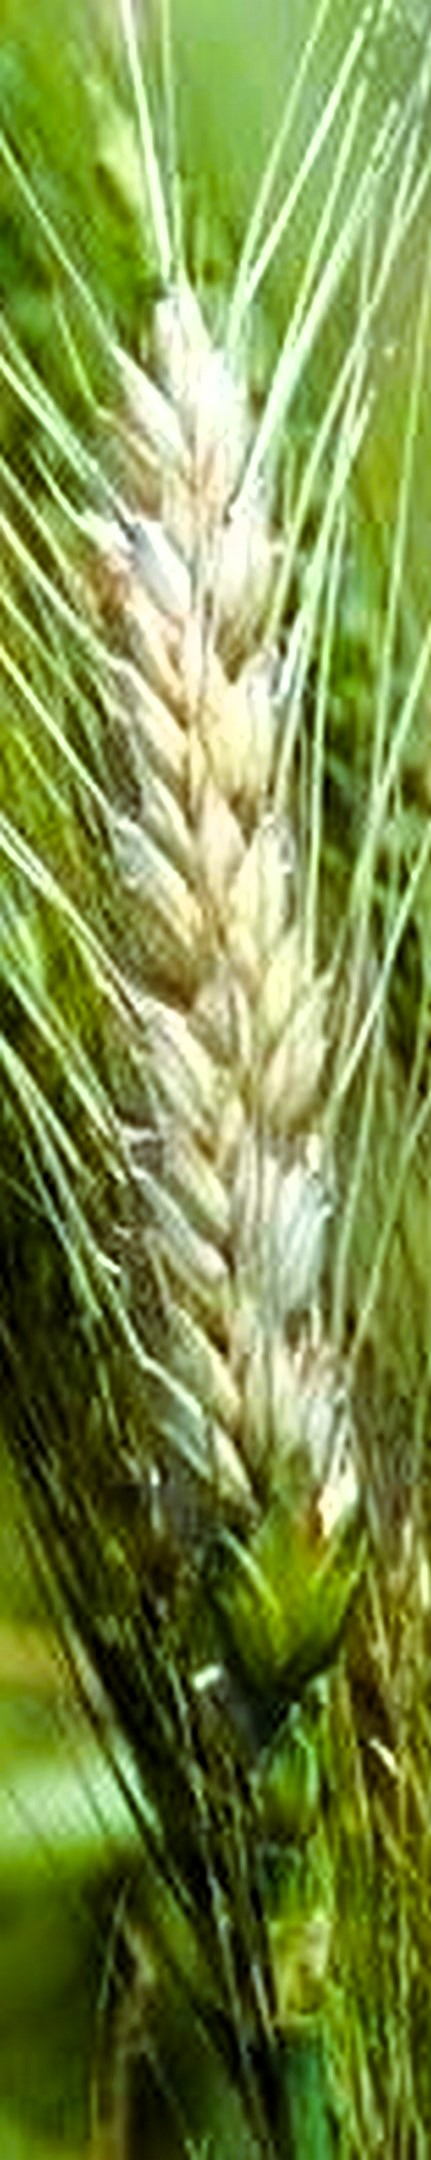Wheat scab: (43, 310, 392, 1689)
